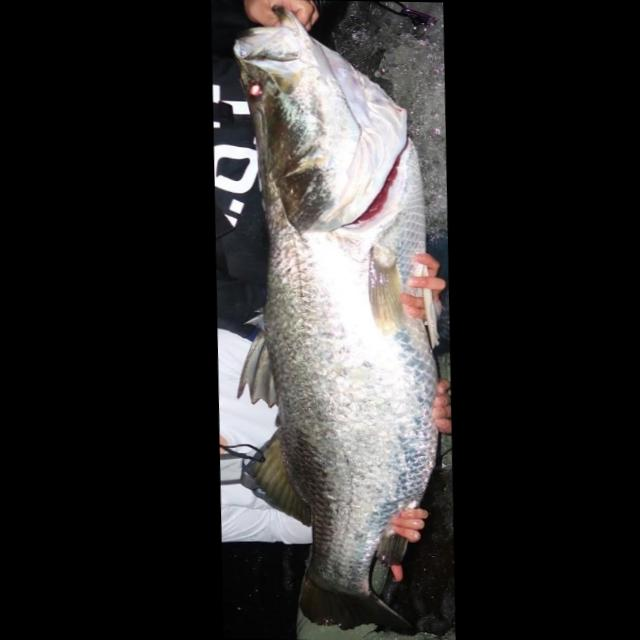Seabass: (216, 2, 455, 632)
